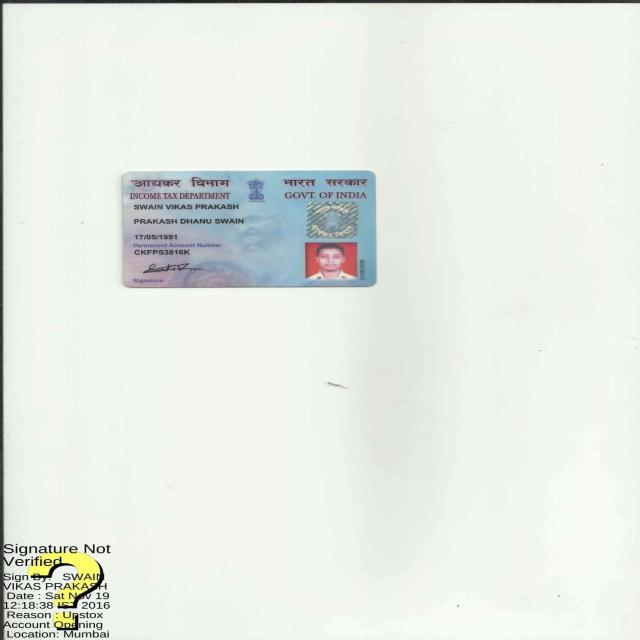pan_card: (120, 170, 377, 287)
